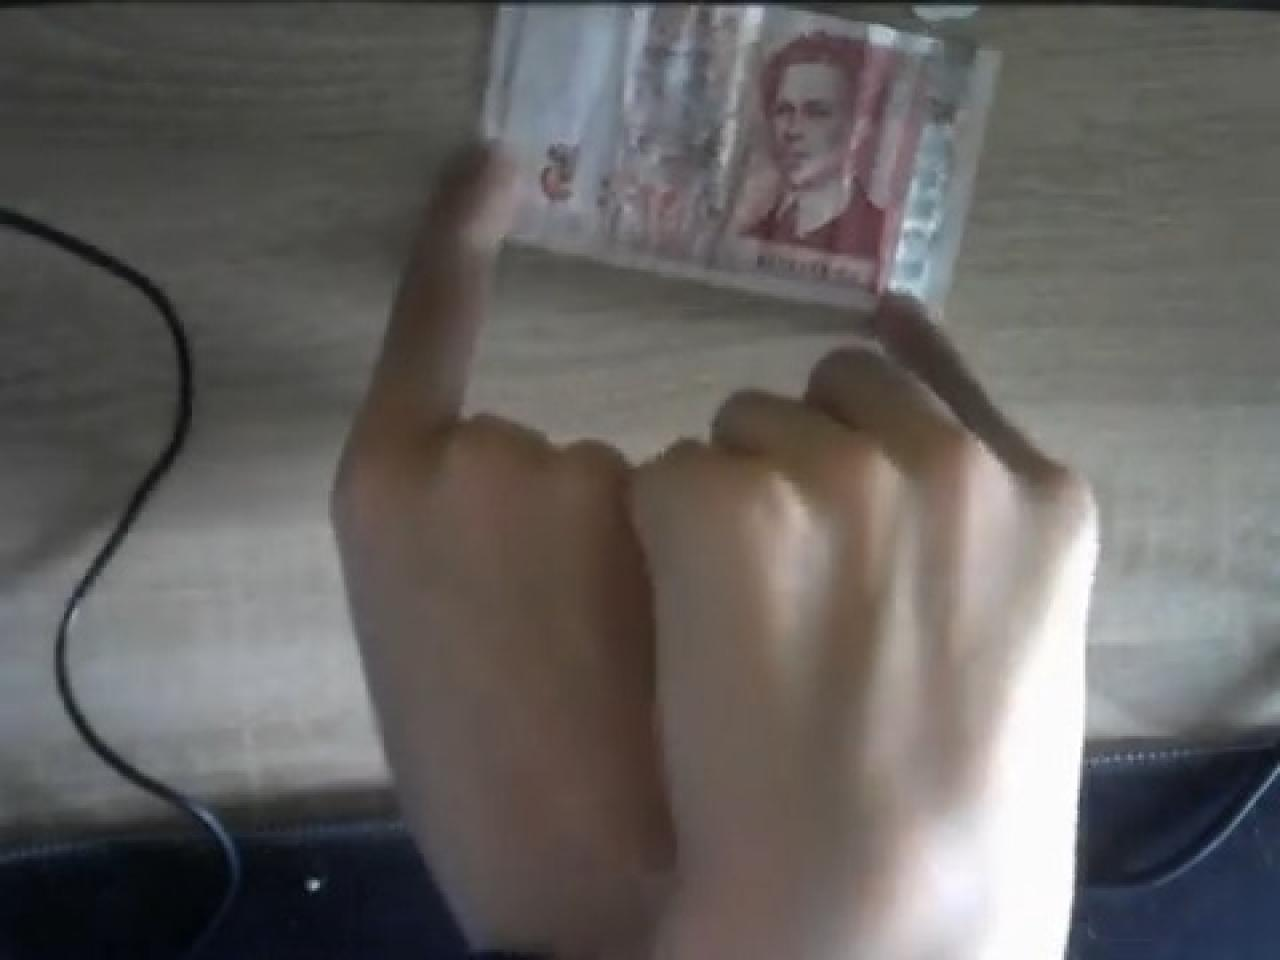5leva: (483, 0, 1000, 310)
